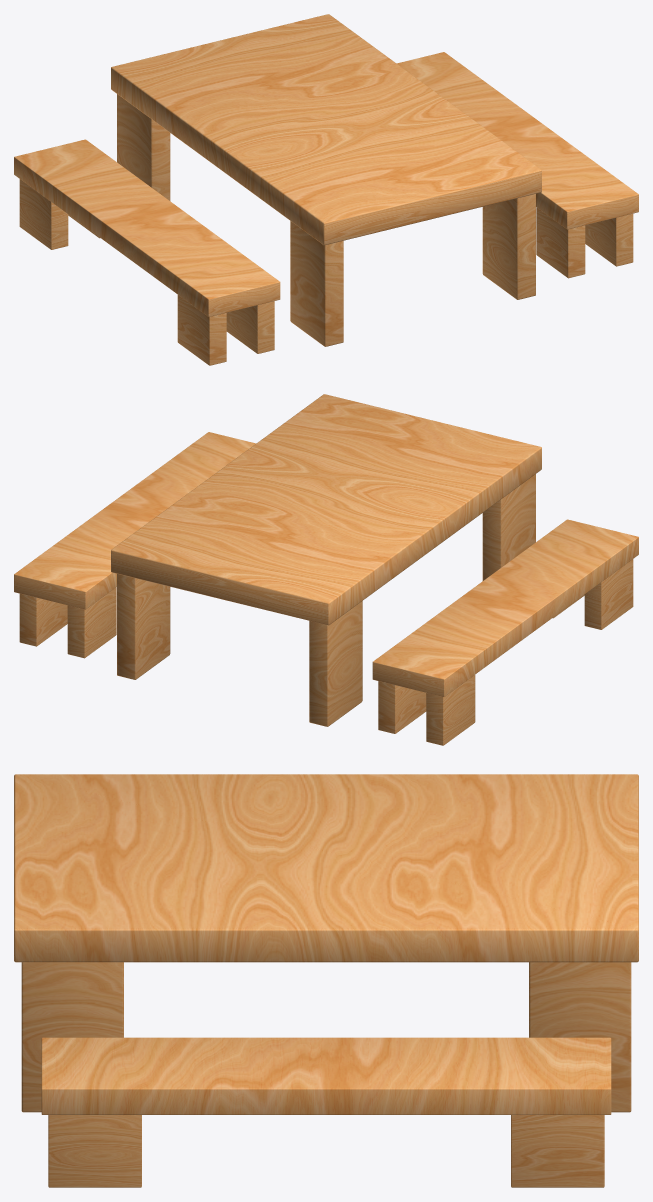
File: dining_table.obj
3 views of the same model, one above another, from view 1: azimuth 30°, elevation 25°; view 2: azimuth 150°, elevation 25°; view 3: azimuth 270°, elevation 25° (orthographic). The views are drawn at different scales.
Visible parts, largest first — view 1: Table_Cube.001, Bench_Cube.003, Bench_2_Cube.004; view 2: Table_Cube.001, Bench_Cube.003, Bench_2_Cube.004; view 3: Table_Cube.001, Bench_2_Cube.004.
Part boxes in pixels (bbox=[...]): Table_Cube.001: bbox=[111, 14, 541, 346]; Bench_Cube.003: bbox=[14, 139, 280, 365]; Bench_2_Cube.004: bbox=[397, 52, 638, 278]; Table_Cube.001: bbox=[111, 394, 541, 726]; Bench_Cube.003: bbox=[372, 519, 638, 745]; Bench_2_Cube.004: bbox=[14, 432, 255, 658]; Table_Cube.001: bbox=[14, 774, 638, 1112]; Bench_2_Cube.004: bbox=[41, 1037, 611, 1187].
Size of the model in its own units: 7.21 by 2.03 by 6.19.
